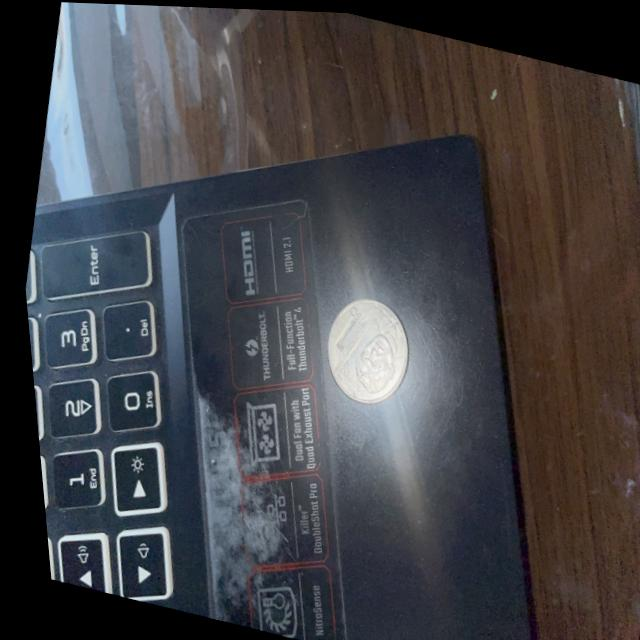1_New_Front: (320, 302, 401, 395)
